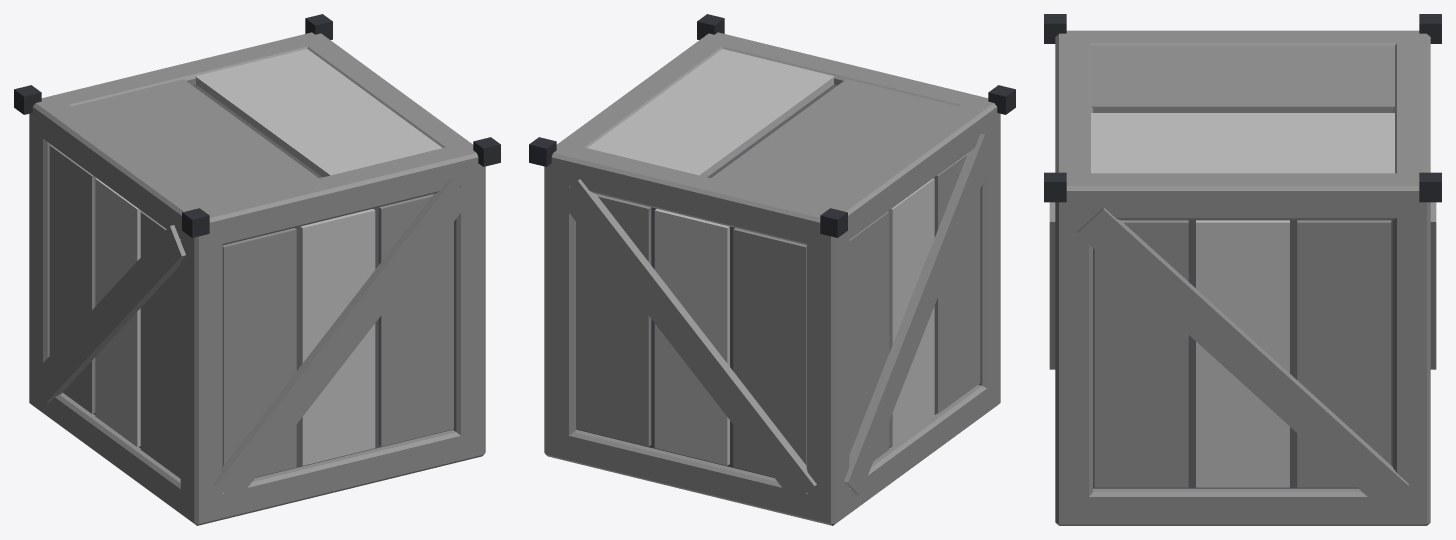
File: crate.fbx
3 renders of one model, left to right at view 1: azimuth 30°, elevation 25°; view 2: azimuth 150°, elevation 25°; view 3: azimuth 270°, elevation 25°, orthographic. The views are drawn at different scales.
Parts seen in each view (by area): view 1: Crate; view 2: Crate; view 3: Crate.
Part boxes in pixels (bbox=[...]): Crate: bbox=[14, 14, 500, 525]; Crate: bbox=[529, 14, 1015, 525]; Crate: bbox=[1044, 14, 1441, 525].
Bounding box in the file's own units: 1.06 × 1.03 × 1.06.
1 material, 1 textured.
